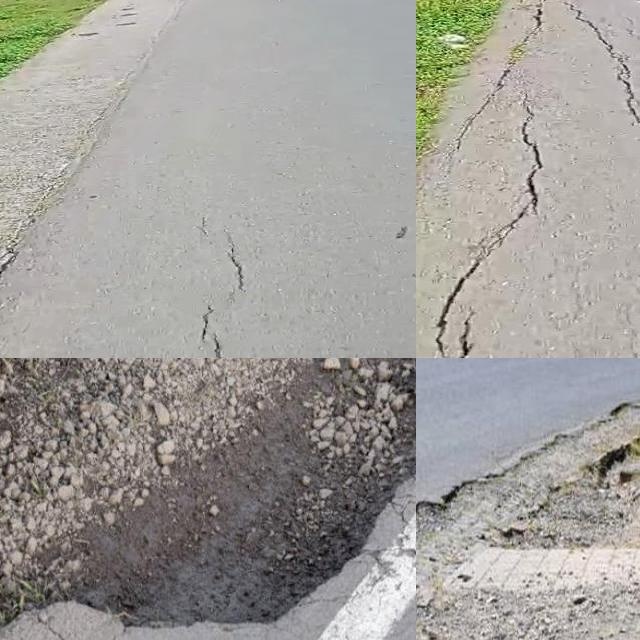Memanjang: (416, 95, 553, 358), (187, 217, 256, 358)
Pinggir: (26, 358, 416, 629), (416, 389, 640, 640)
